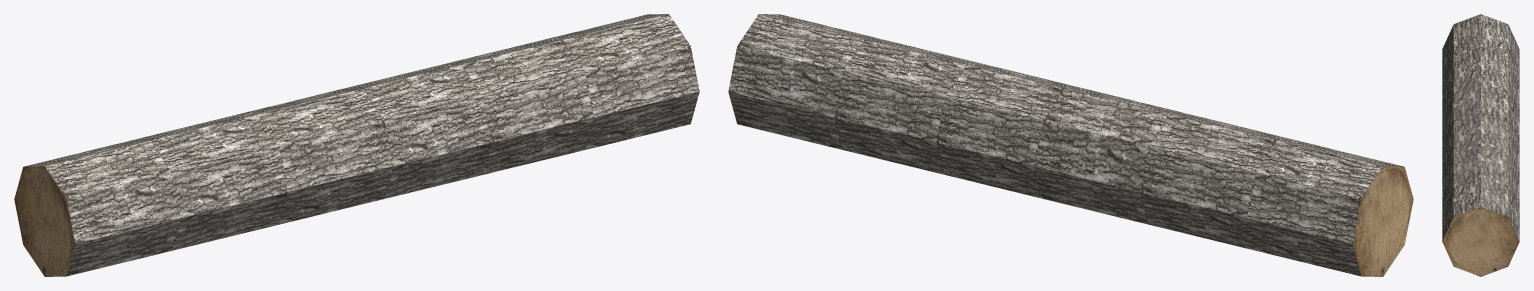
Rendered from big-log.glb.
3 views of the same model, side by side, from view 1: azimuth 30°, elevation 25°; view 2: azimuth 150°, elevation 25°; view 3: azimuth 270°, elevation 25° (orthographic). The views are drawn at different scales.
Visible parts, largest first — view 1: Cylinder; view 2: Cylinder; view 3: Cylinder.
Part boxes in pixels (<box>): Cylinder: <box>14,14,699,276</box>; Cylinder: <box>728,14,1413,276</box>; Cylinder: <box>1442,14,1519,276</box>.
Size of the model in its own units: 11.81 by 2 by 2.
2 materials, 2 textured.
